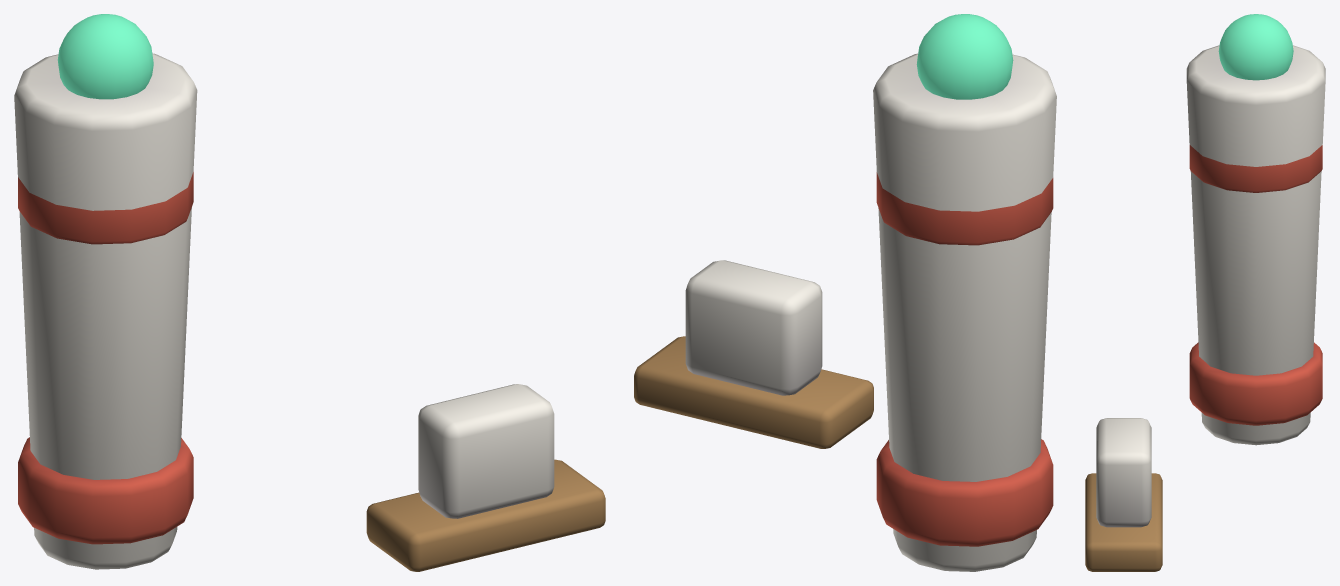
The picture shows the model from 3 angles, left to right: view 1: azimuth 30°, elevation 25°; view 2: azimuth 150°, elevation 25°; view 3: azimuth 270°, elevation 25°; orthographic projection. The views are drawn at different scales.
Visible parts, largest first — view 1: landmark_775308d3; view 2: landmark_775308d3; view 3: landmark_775308d3.
Part boxes in pixels (bbox=[...]): landmark_775308d3: bbox=[14, 14, 605, 571]; landmark_775308d3: bbox=[634, 14, 1056, 571]; landmark_775308d3: bbox=[1085, 14, 1325, 571].
Size of the model in its own units: 3.85 by 4.09 by 2.18.
